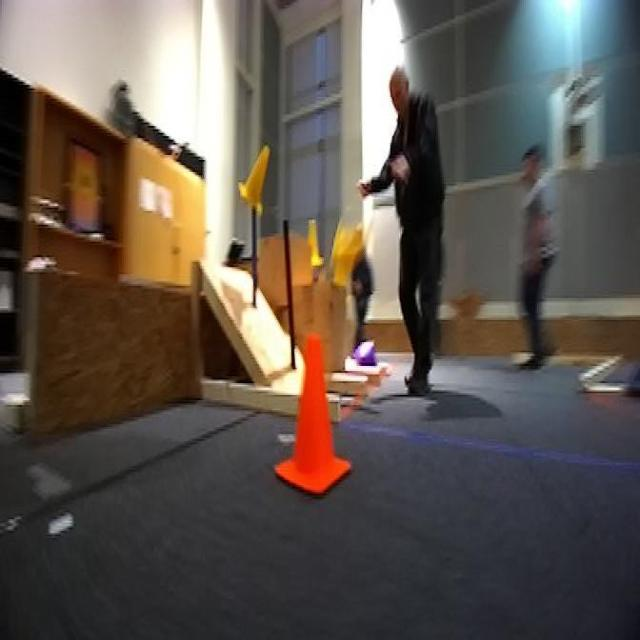frc_cone: (330, 199, 370, 274), (242, 146, 268, 208), (324, 235, 346, 298), (305, 211, 324, 271)
frc_cube: (352, 340, 376, 368)
